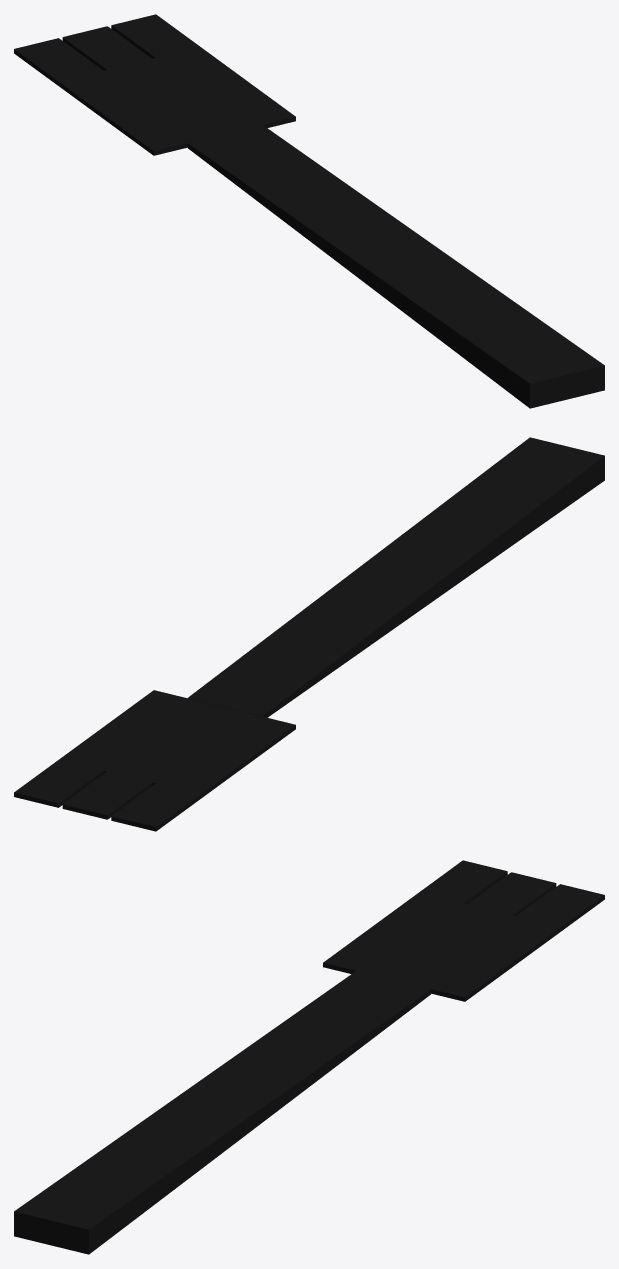
The model's file is Itr_Obj_Fork_05.FBX.
The picture shows the model from 3 angles, top to bottom: view 1: azimuth 30°, elevation 25°; view 2: azimuth 150°, elevation 25°; view 3: azimuth 330°, elevation 25°; orthographic projection.
Parts seen in each view (by area): view 1: Itr_Obj_Fork_05; view 2: Itr_Obj_Fork_05; view 3: Itr_Obj_Fork_05.
Boxes of the visible parts, left/top/right/bottom form: Itr_Obj_Fork_05: left=14, top=14, right=604, bottom=408; Itr_Obj_Fork_05: left=14, top=437, right=604, bottom=831; Itr_Obj_Fork_05: left=14, top=860, right=604, bottom=1254.
Size of the model in its own units: 0.8283 by 0.1387 by 4.87.
